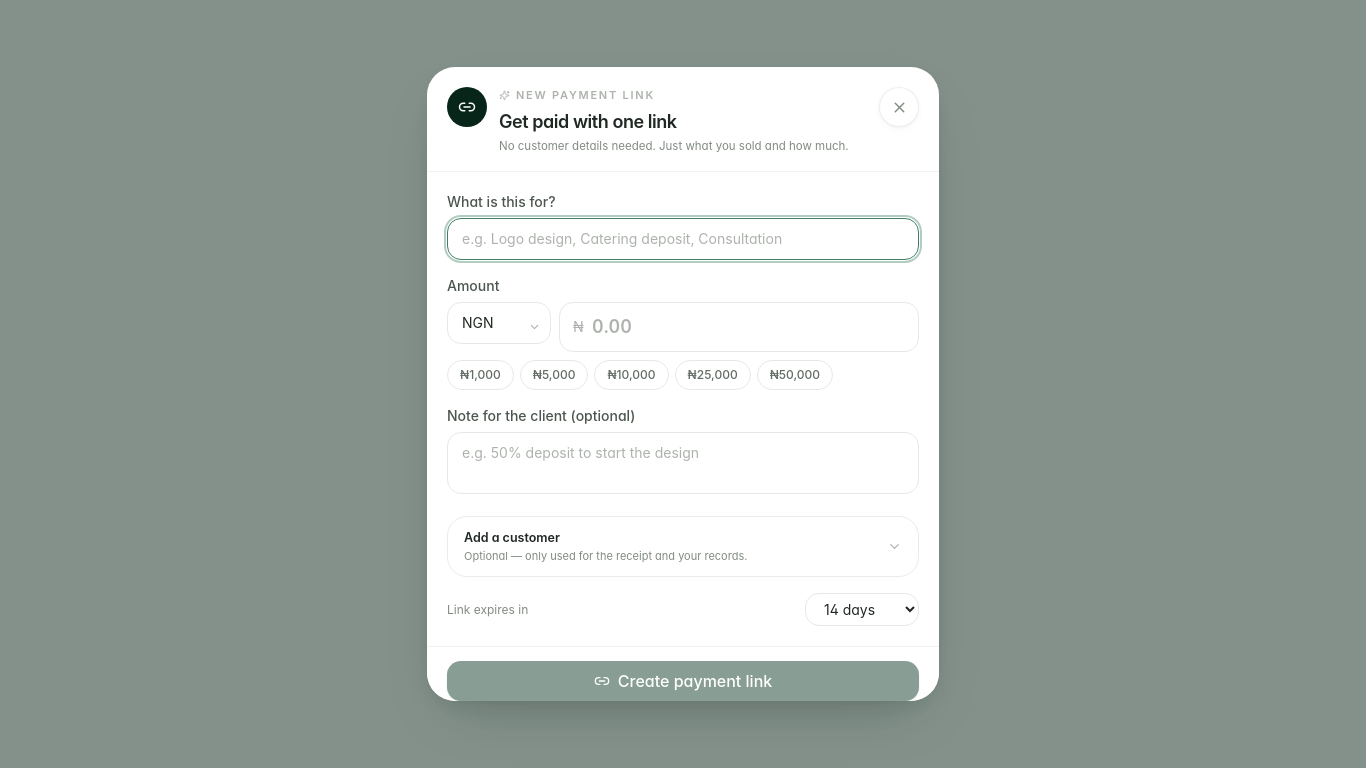
Scenario: PaymentLinkSheet › shows the finished link with a share action ready
This screenshot has width=1366, height=768.
In the field with placeholder "e.g. Logo design, Catering deposit, Consultation": [683, 239] box [447,218,919,260], type "Logo design"
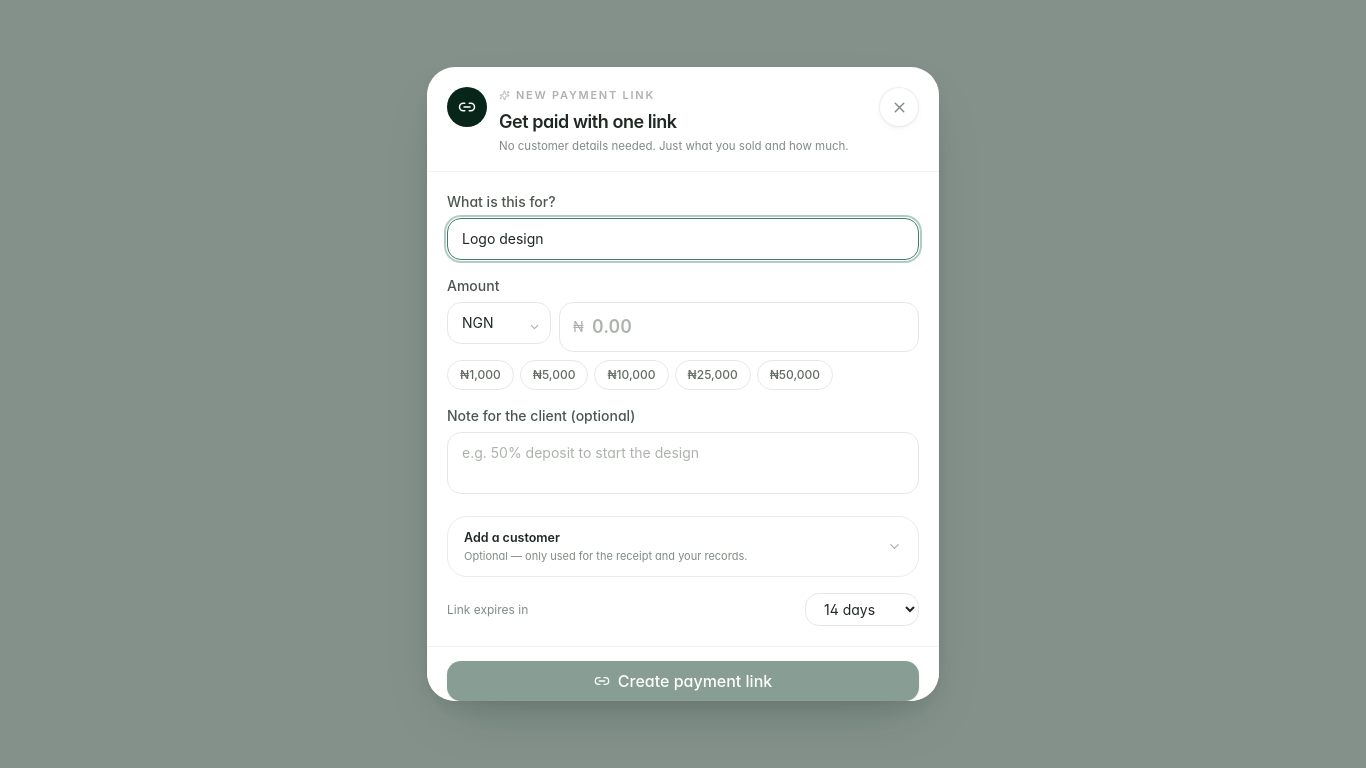
In the field named "Amount": [739, 327] box [559,302,919,352], type "50000"
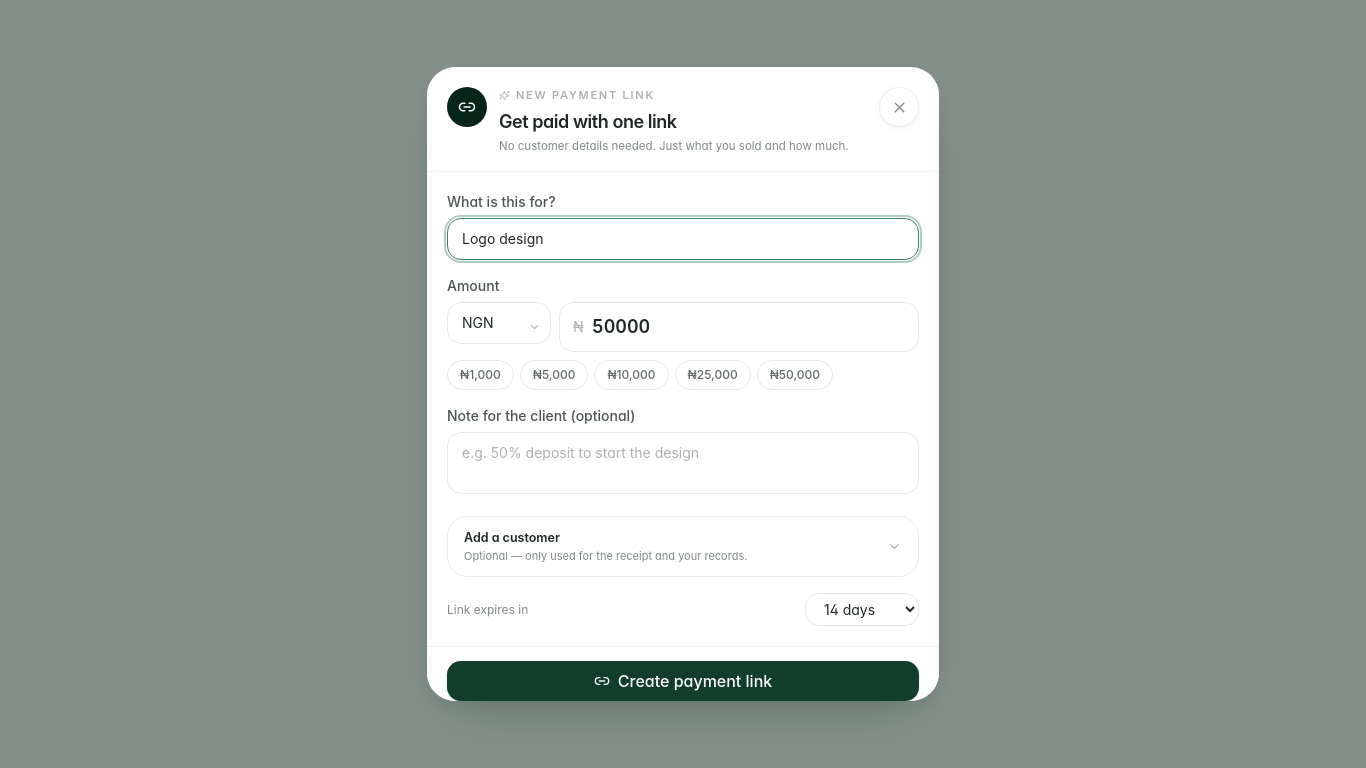
Click the button "Create payment link": [683, 681] box [447,661,919,701]
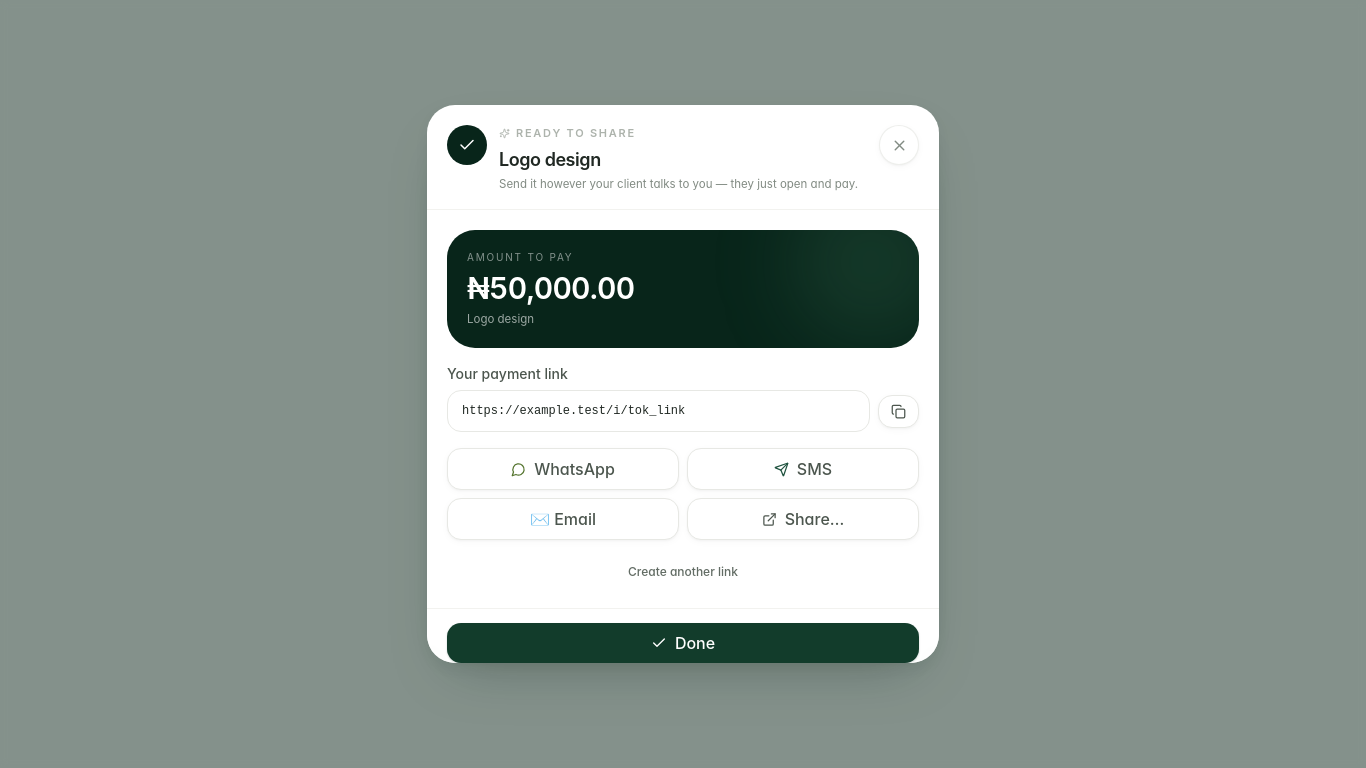
Now the field showing "https://example.test/i/tok_link" is shown, box [447,390,870,432]
Now the text "₦50,000.00" is shown, box [467,270,634,306]
Now the link "WhatsApp" is shown, box [447,448,679,490]
